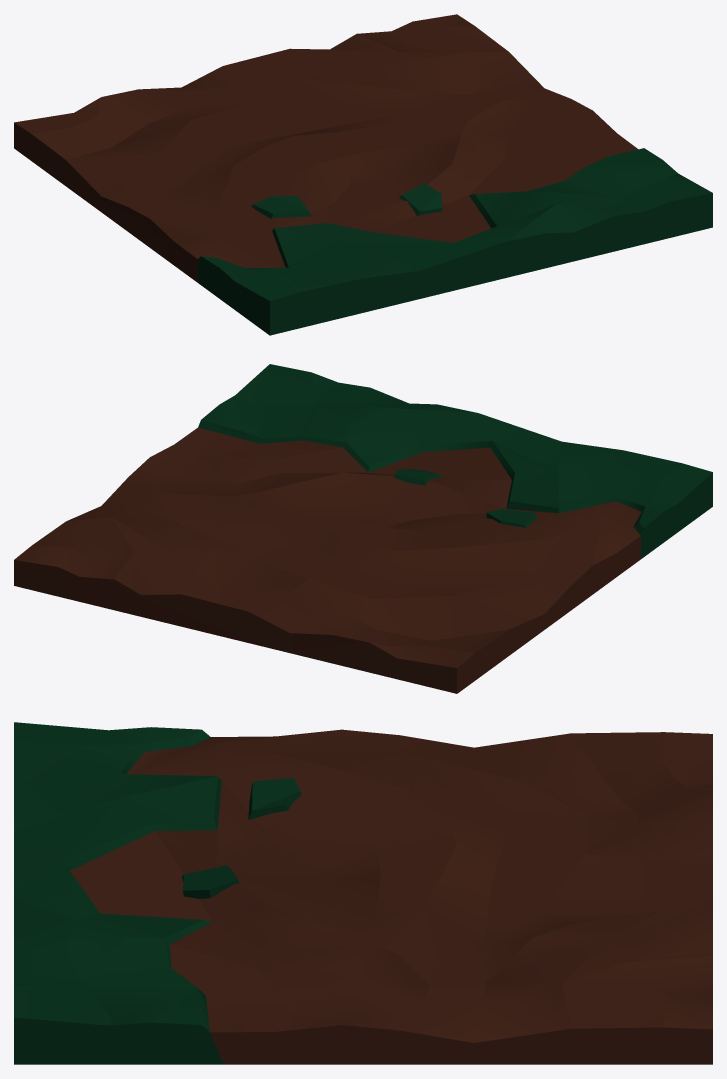
The model's file is Ground_Edge_B.fbx.
3 renders of one model, top to bottom at view 1: azimuth 30°, elevation 25°; view 2: azimuth 150°, elevation 25°; view 3: azimuth 270°, elevation 25°, orthographic. The views are drawn at different scales.
Parts seen in each view (by area): view 1: Ground_Edge_B; view 2: Ground_Edge_B; view 3: Ground_Edge_B.
Part boxes in pixels (box(x1,y1,x2,y2)): Ground_Edge_B: box(14, 14, 712, 335); Ground_Edge_B: box(14, 364, 712, 693); Ground_Edge_B: box(14, 722, 712, 1064).
Bounding box in the file's own units: 147 × 12.67 × 147.
